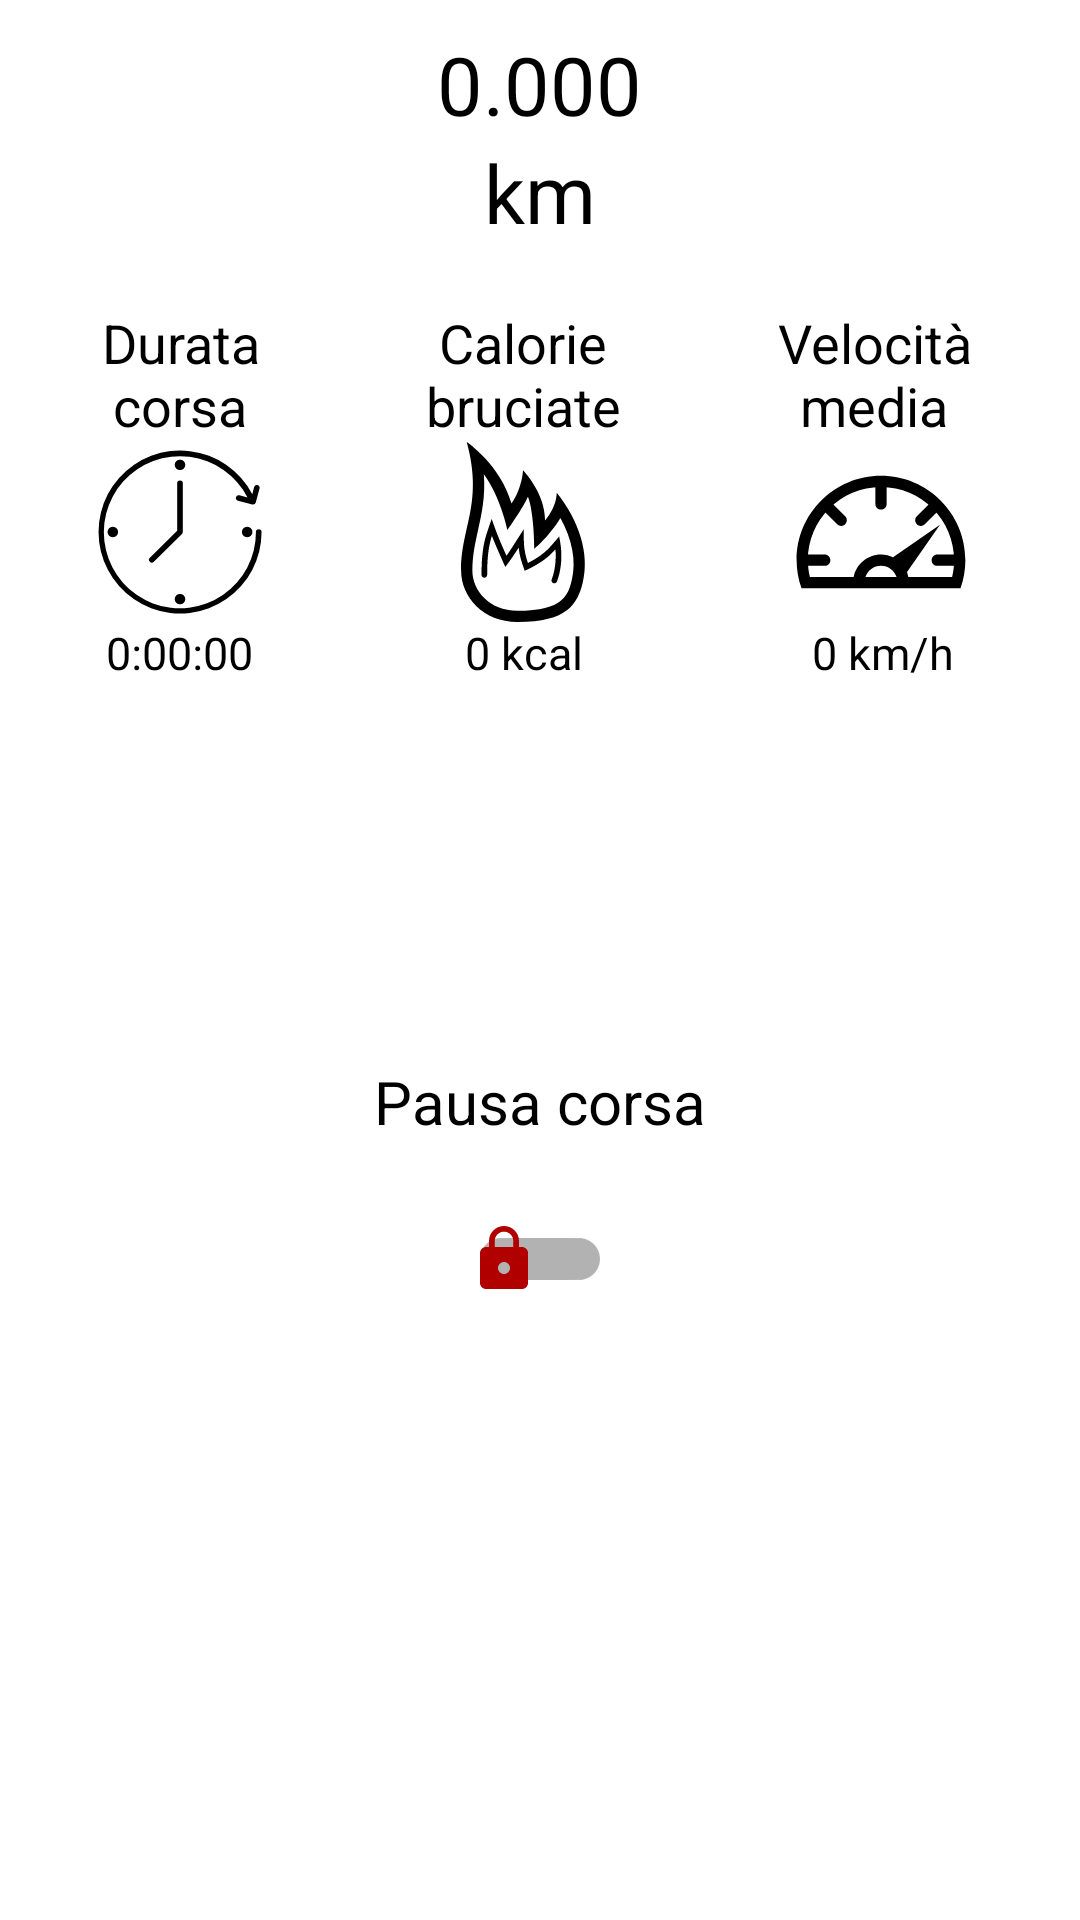

Named icons in this screenshot (1080×1920) and their bounding boxes, [x1, y1, x2, y2]:
speed: [796, 475, 966, 589]
timer: [98, 450, 262, 614]
